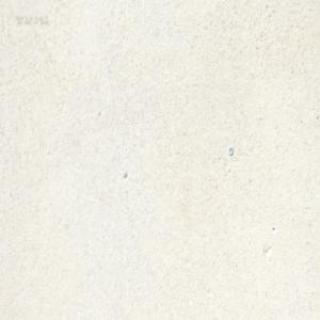Washertrack_idkeyframe: (227, 145, 232, 155)
